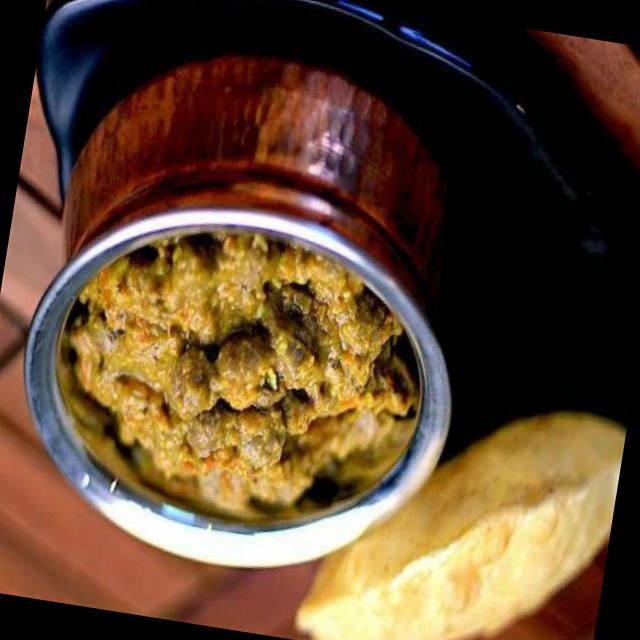Bhatura: (289, 376, 627, 640)
Chole: (46, 206, 437, 524)
